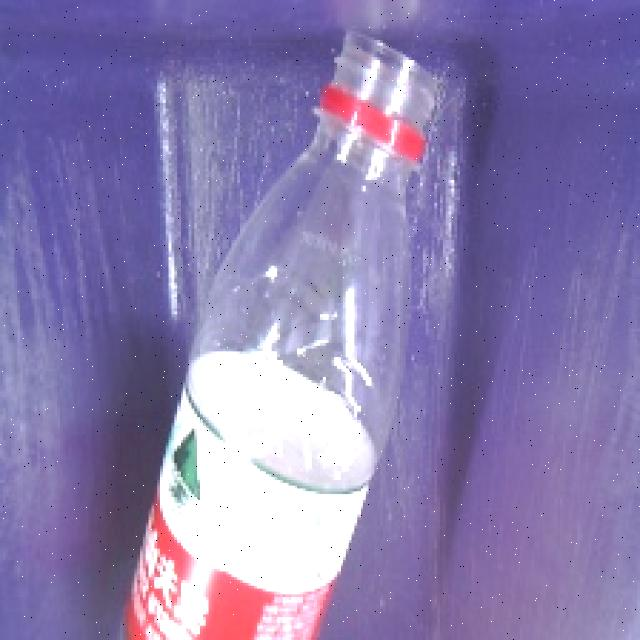plastic: (106, 13, 466, 640)
